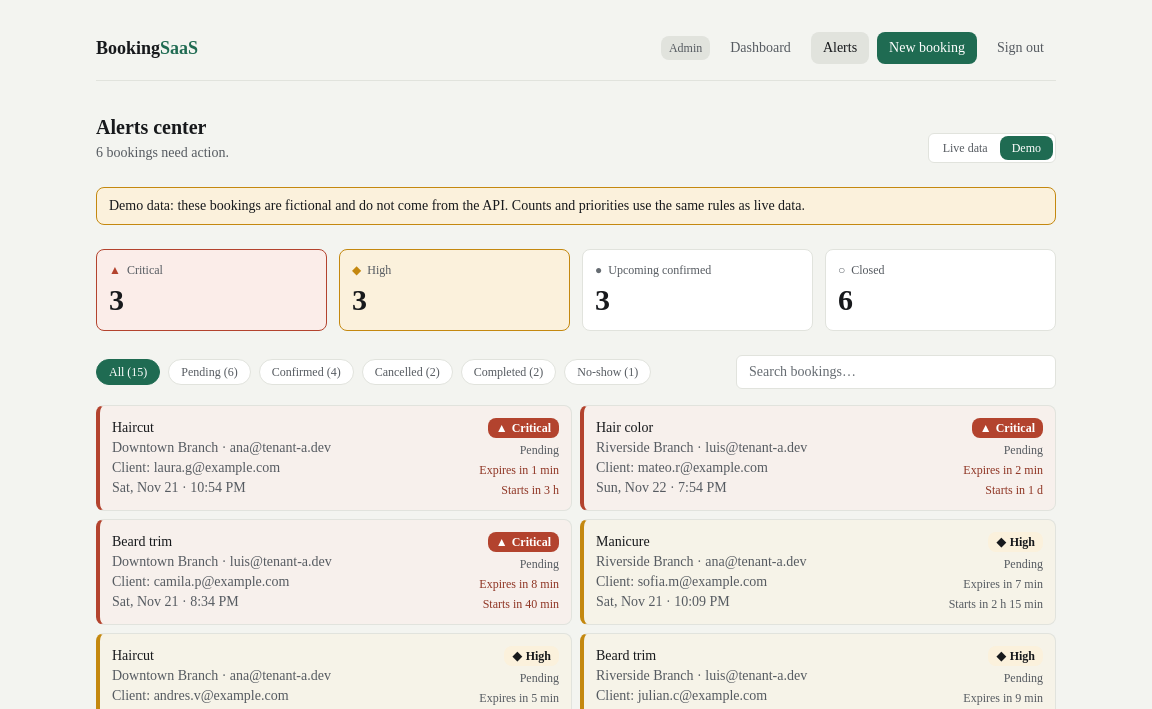
Test: /alerts — switching the data source resets the filter › goes back to "All" when moving from Demo to Live data
The image size is (1152, 709).
Later steps or results of the test are not shown.
What coordinates should you click on to do the following:
click the button "Pending (6)"
I would click on:
 (209, 372)
Its box is x1=168 y1=359 x2=251 y2=385.
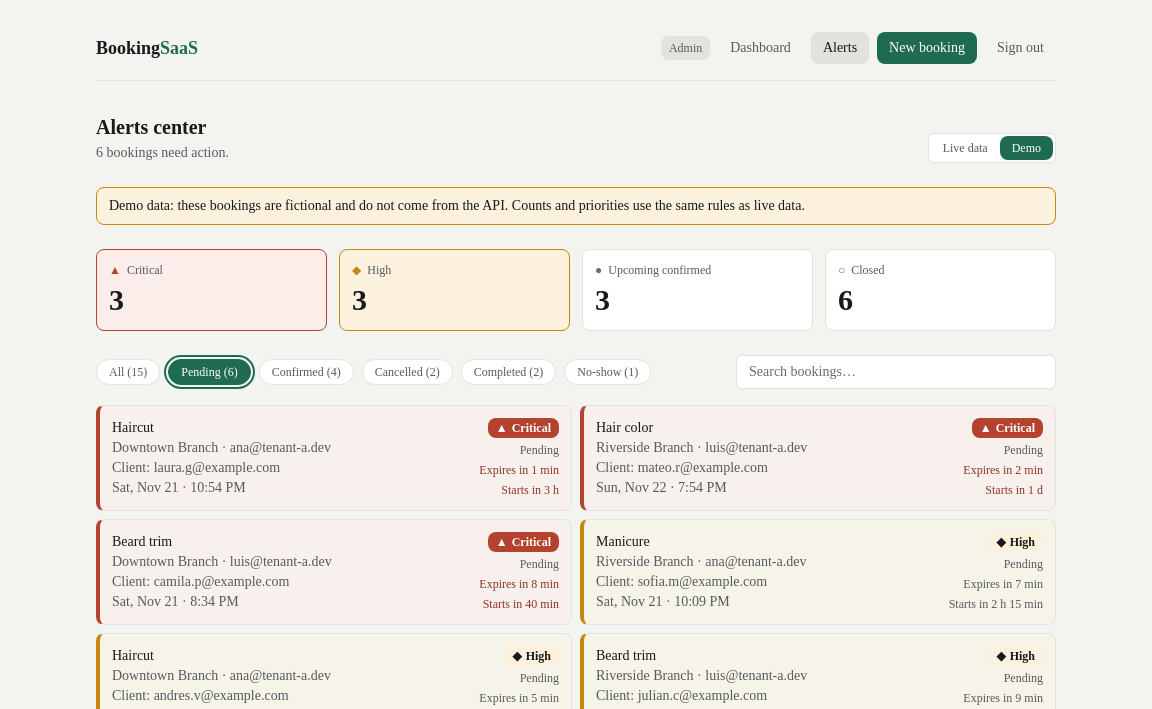
Now the button "Pending (6)" is pressed, box x1=168 y1=359 x2=251 y2=385
